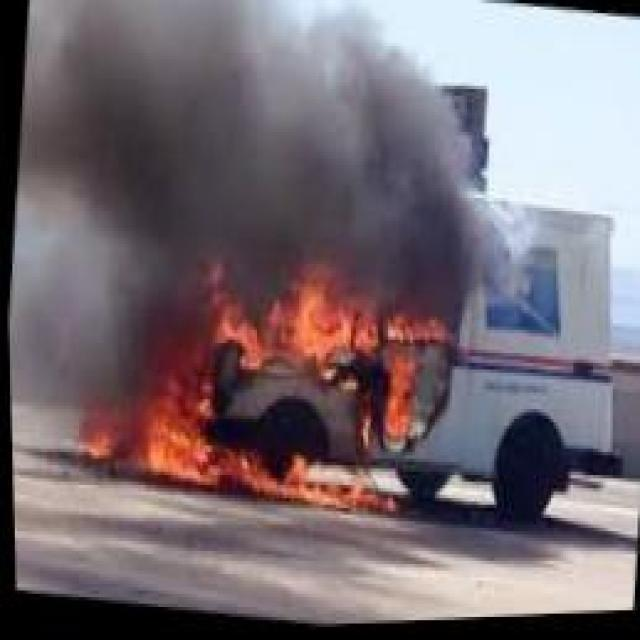Fire: (59, 221, 470, 561)
Smoke: (4, 0, 563, 313)
